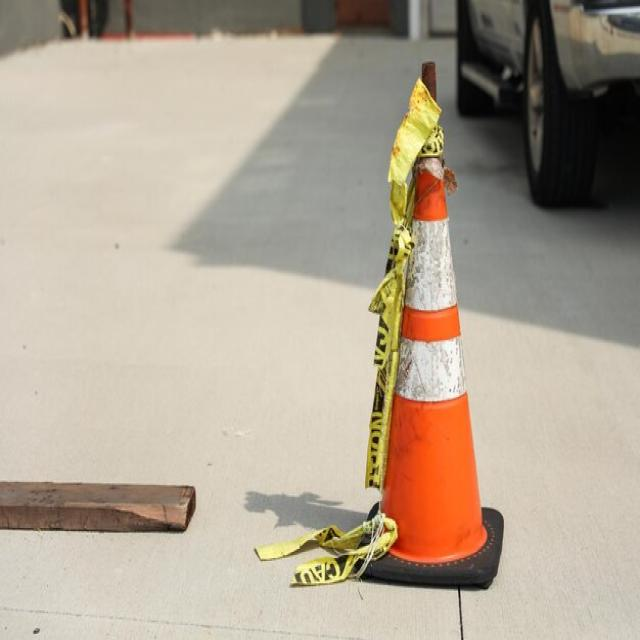Traffic Cone: (342, 97, 519, 615)
